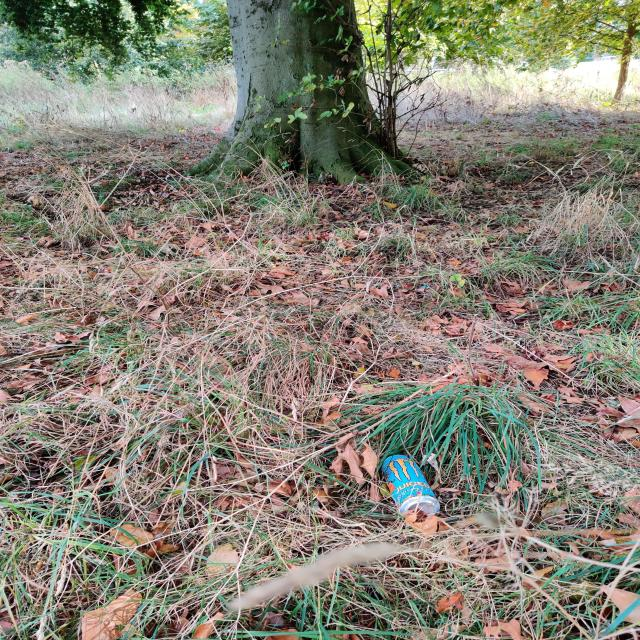litter: (363, 439, 458, 533)
